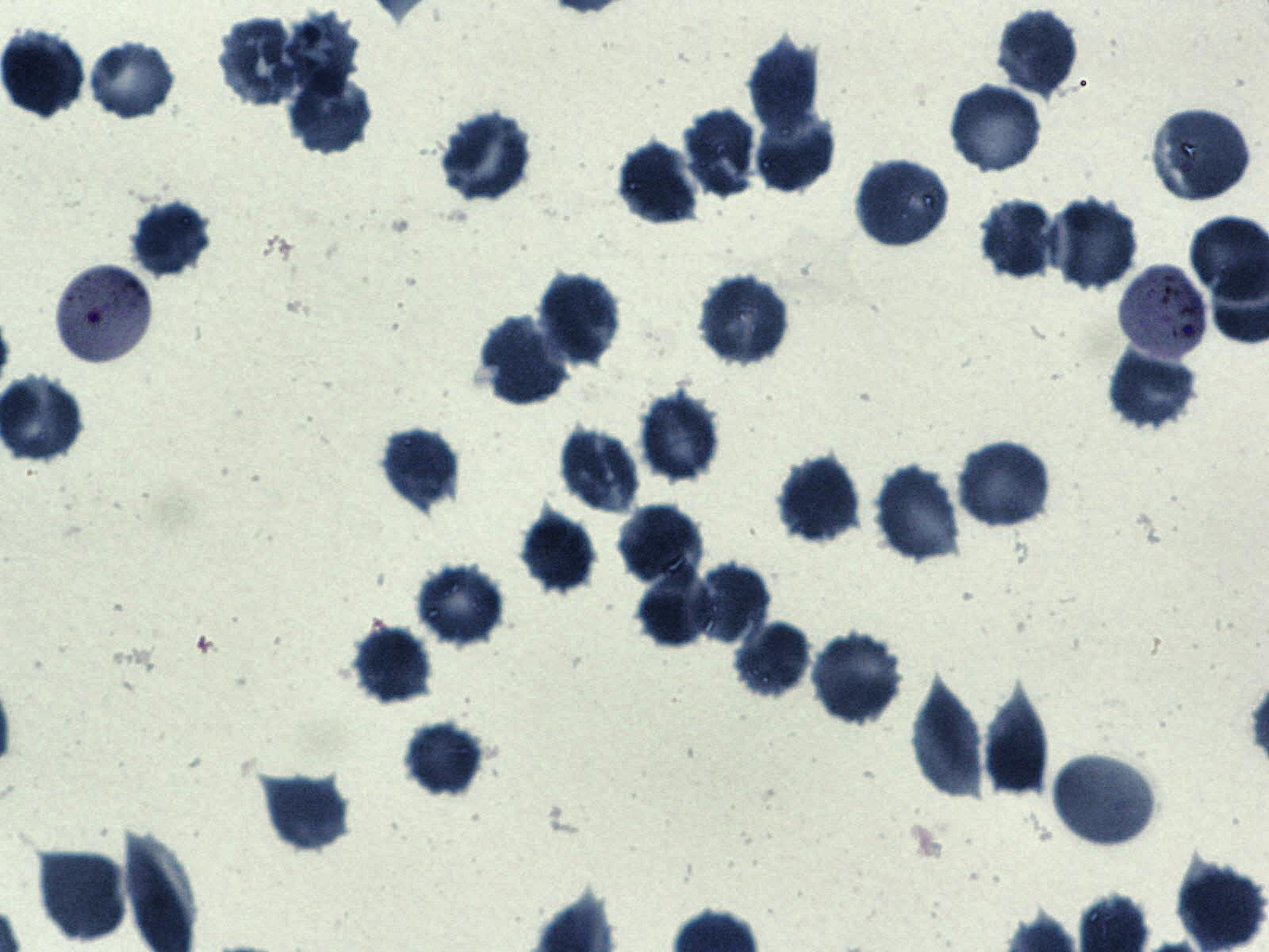Infected: (54, 264, 155, 366), (1117, 263, 1210, 363)
Uninfected: (1052, 753, 1156, 848), (1154, 108, 1250, 202), (949, 83, 1045, 174), (908, 684, 983, 799), (1175, 858, 1266, 952), (38, 850, 128, 943), (857, 158, 949, 248), (958, 440, 1052, 528), (874, 468, 961, 562), (532, 271, 616, 367), (812, 633, 901, 723), (700, 277, 789, 366), (481, 315, 566, 405), (443, 115, 532, 200), (1109, 348, 1198, 432), (217, 17, 302, 104), (1057, 199, 1138, 290), (87, 41, 176, 121), (283, 11, 362, 101), (750, 33, 820, 134), (639, 395, 719, 482), (999, 10, 1079, 97), (1, 32, 81, 118), (417, 565, 502, 645), (780, 458, 859, 543), (987, 688, 1049, 796), (263, 770, 345, 851), (634, 568, 713, 651), (688, 109, 758, 202), (621, 506, 701, 586), (292, 74, 373, 153), (560, 432, 641, 511), (758, 109, 836, 191), (620, 146, 697, 228), (382, 424, 457, 508), (522, 509, 596, 594), (982, 200, 1056, 282), (735, 621, 811, 699), (696, 564, 768, 645), (132, 200, 209, 275), (356, 628, 431, 704), (408, 723, 481, 797)
